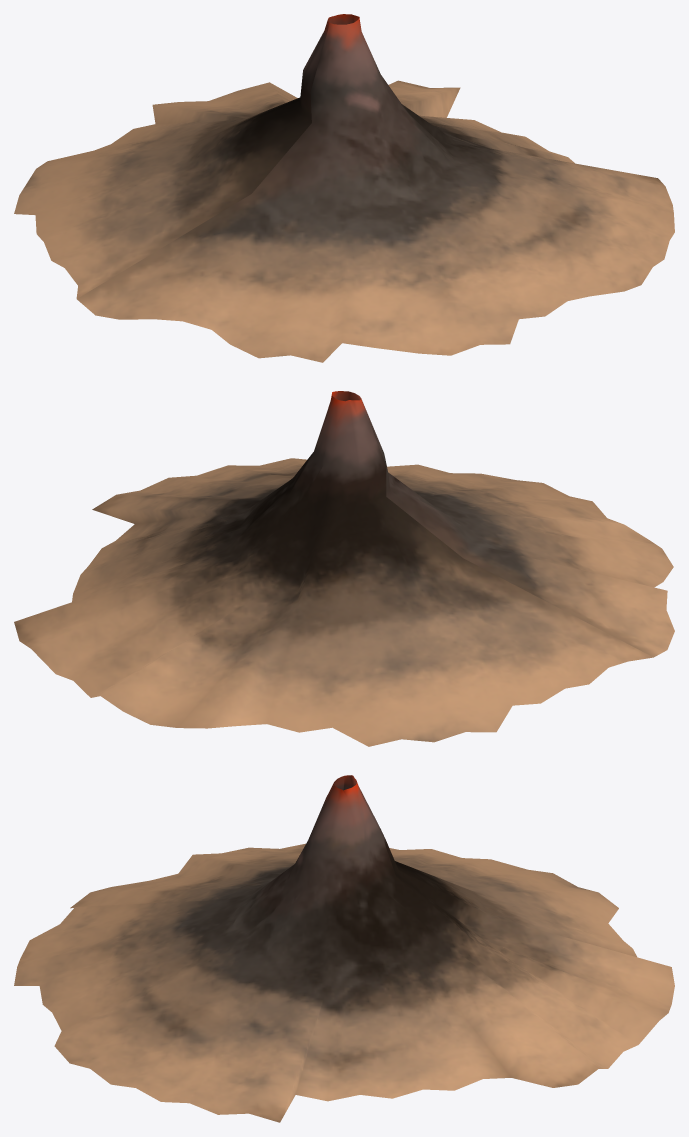
The model's file is volcano.glb.
3 renders of one model, top to bottom at view 1: azimuth 30°, elevation 25°; view 2: azimuth 150°, elevation 25°; view 3: azimuth 270°, elevation 25°, orthographic. The views are drawn at different scales.
Parts seen in each view (by area): view 1: Sphere; view 2: Sphere; view 3: Sphere.
Boxes of the visible parts, x1,y1,x2,y2 form: Sphere: (14, 14, 674, 362); Sphere: (14, 391, 674, 746); Sphere: (14, 775, 674, 1122).
Bounding box in the file's own units: 49.98 × 18.1 × 50.71.
Materials: 1 (1 with a texture image).
